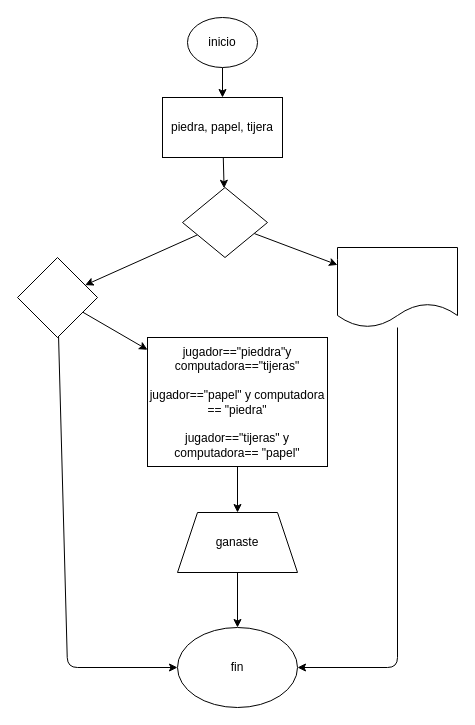
Some shapes in this 475 by 725 pixel diagram are drawn without their labels. Each missing label, with the box of its shape:
empate: (336, 246, 458, 328)
jugador diferente al computador: (16, 256, 98, 338)
jugador== computador: (182, 186, 268, 258)
